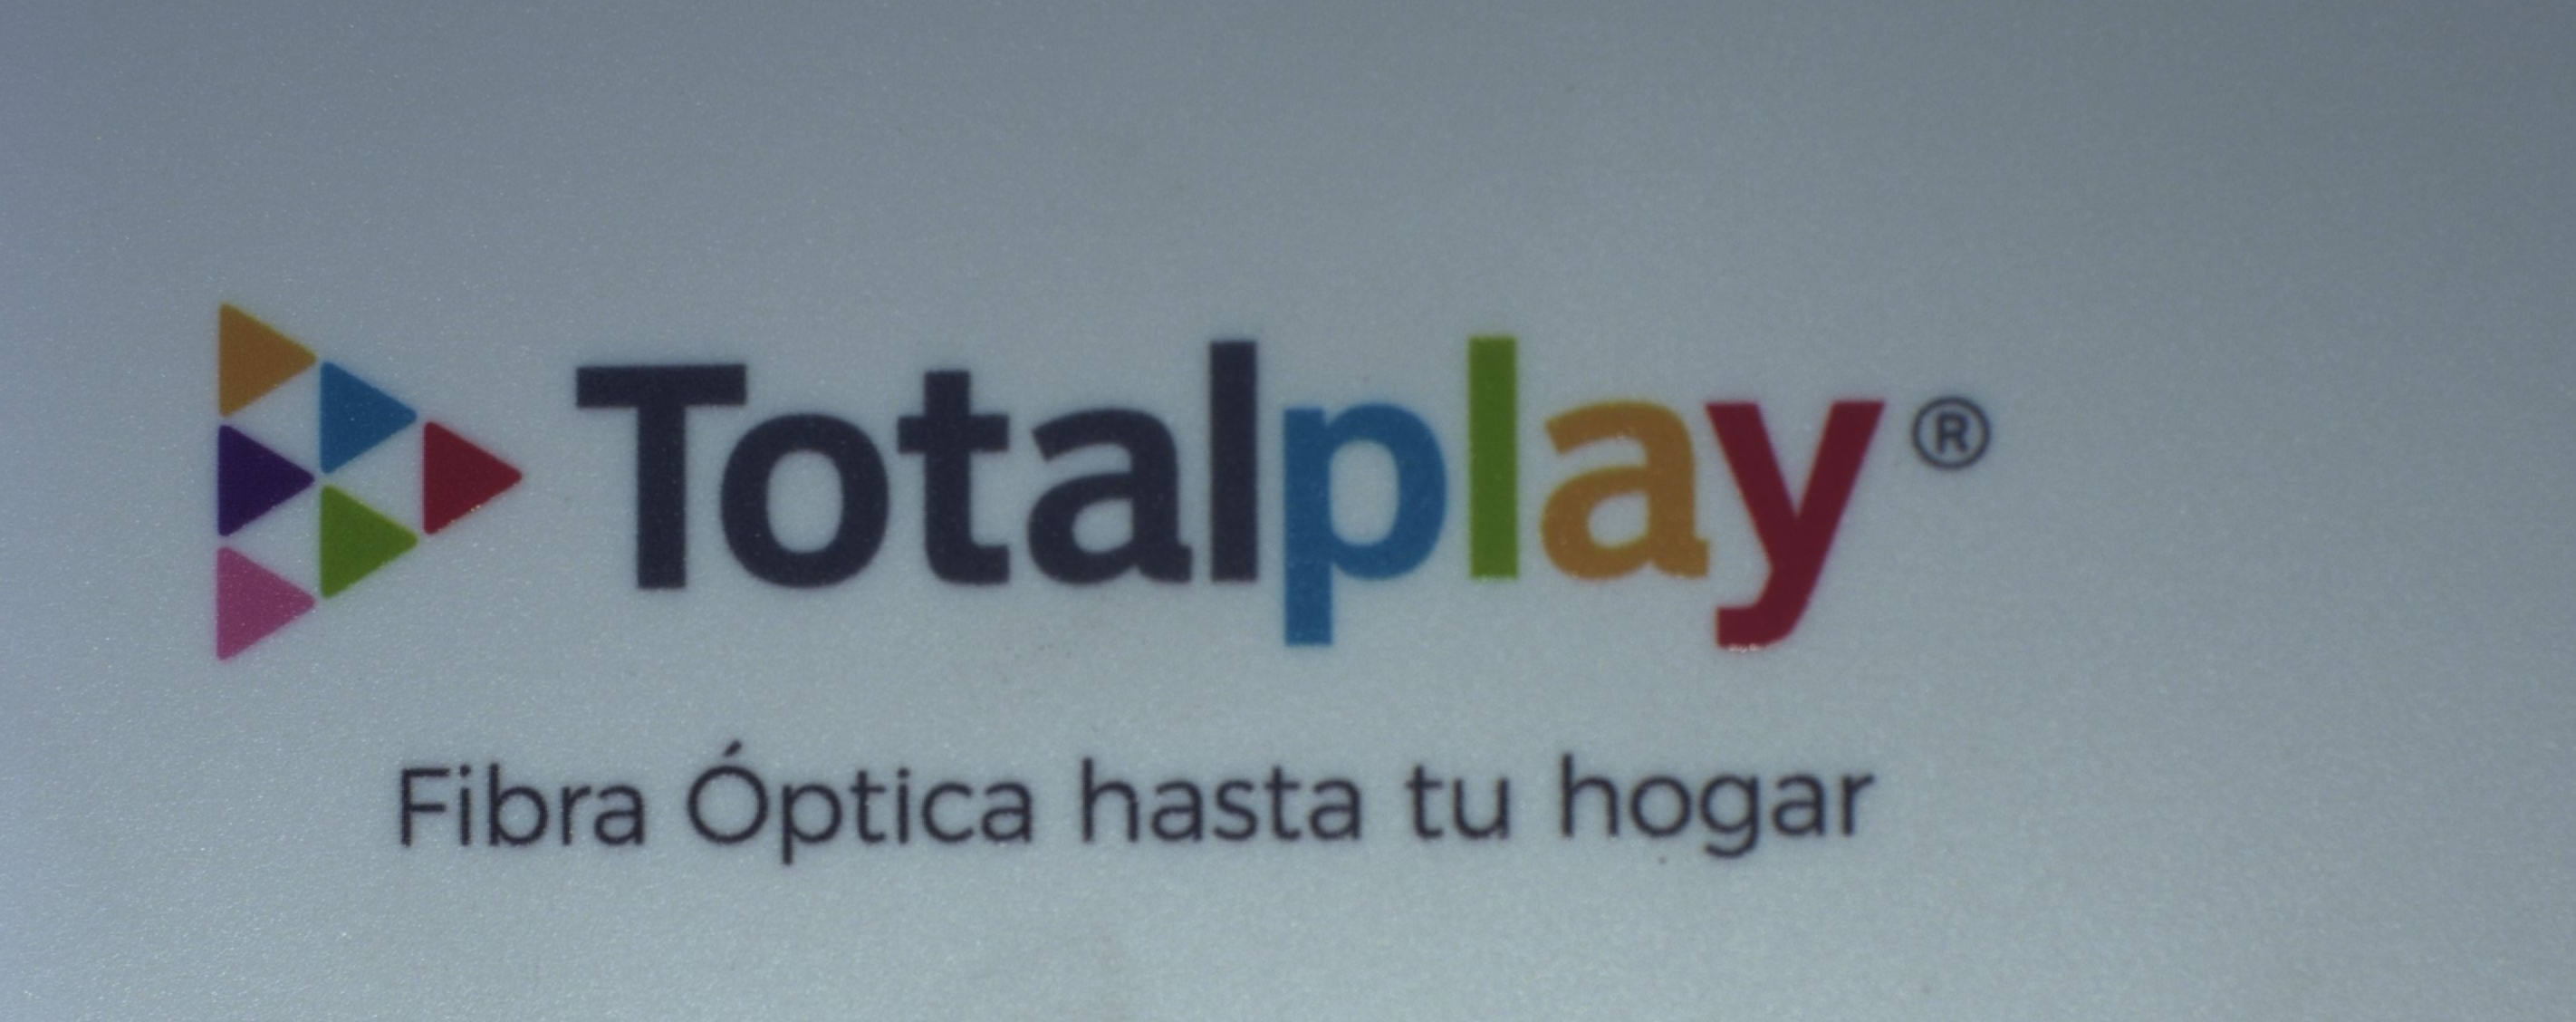BP_TotalPlay: (199, 288, 2009, 876)
